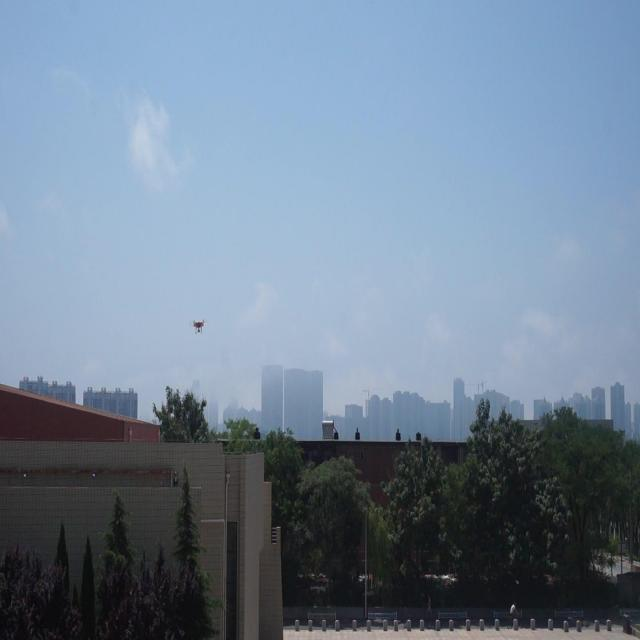UAV: (189, 318, 208, 334)
